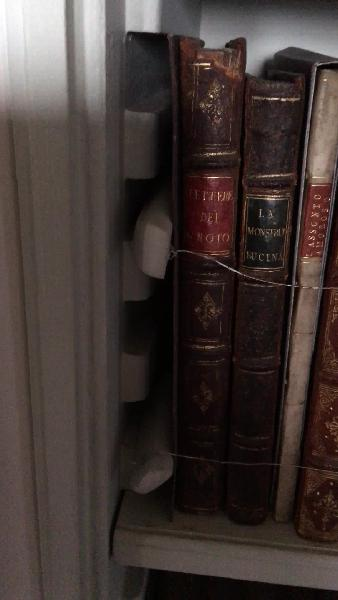Aa6-1: (162, 30, 245, 531)
Aa6-2: (225, 74, 315, 526)
Aa6-3: (260, 53, 338, 534)
